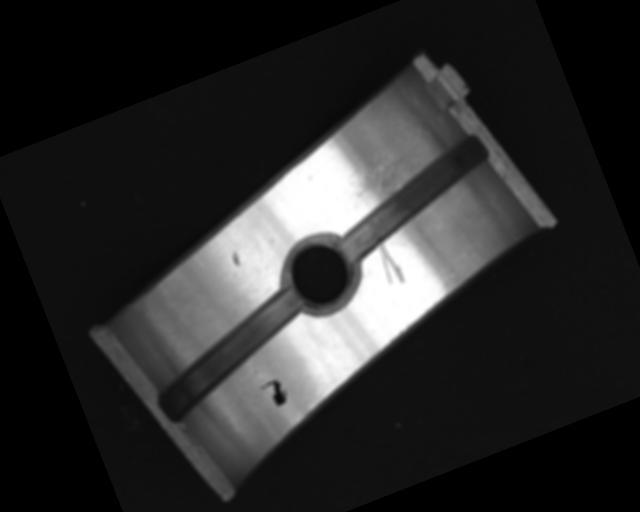blot: (258, 376, 291, 411)
bruise: (229, 249, 243, 269)
gap: (136, 284, 324, 423), (321, 133, 506, 264)
hole: (270, 226, 369, 324)
nick: (373, 237, 407, 288)
scratch: (327, 126, 442, 214)
